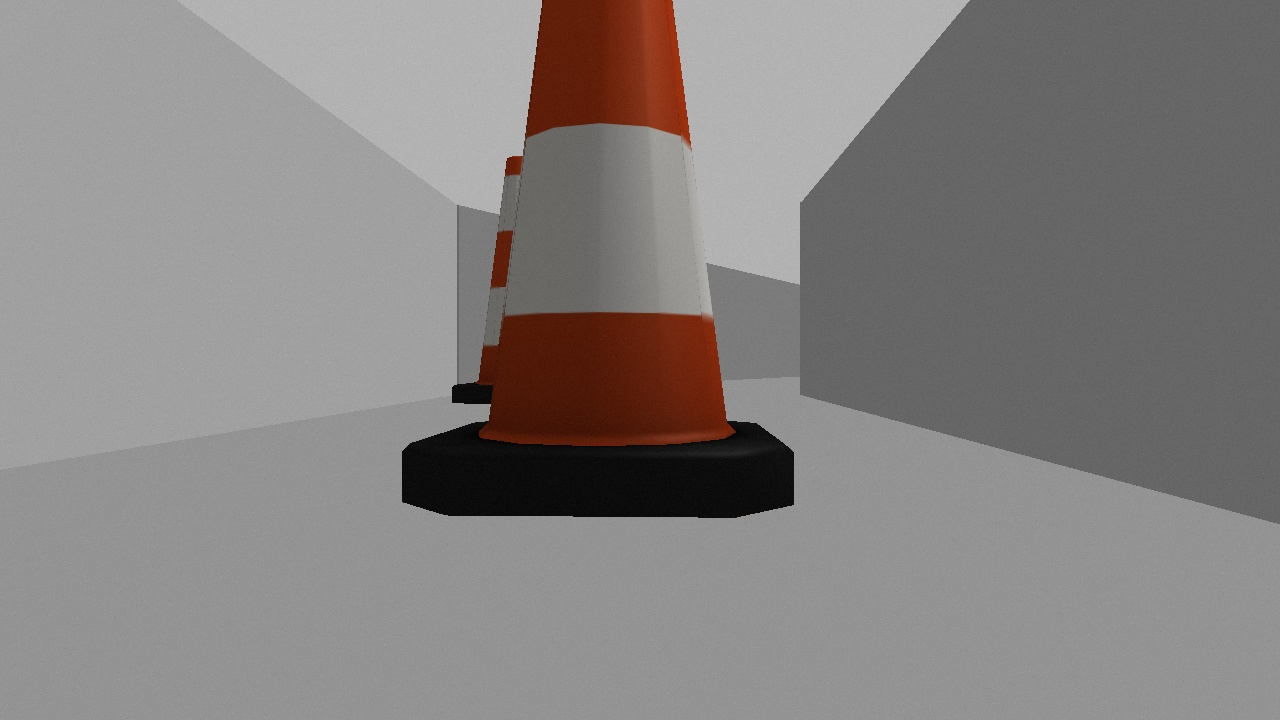barricade: (379, 1, 816, 532), (447, 153, 578, 411)
